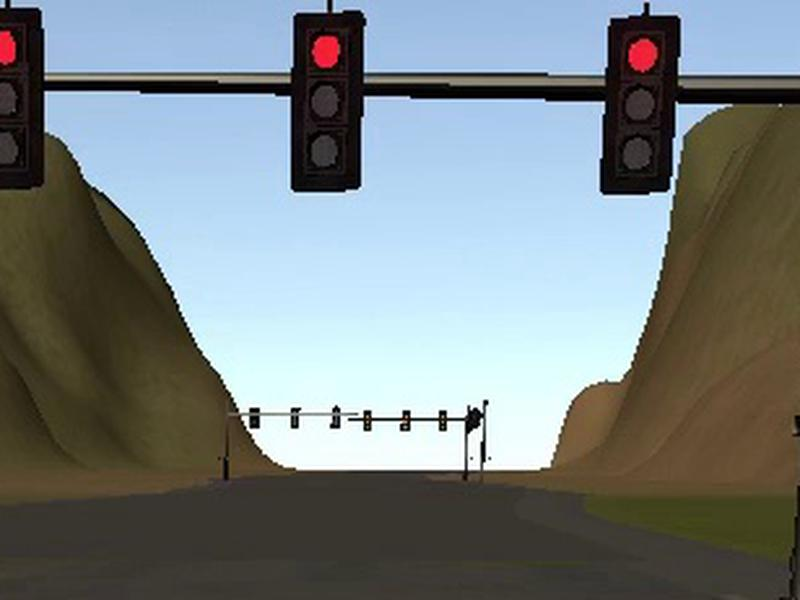Red: (599, 16, 681, 195), (293, 13, 365, 192), (1, 2, 44, 190)
